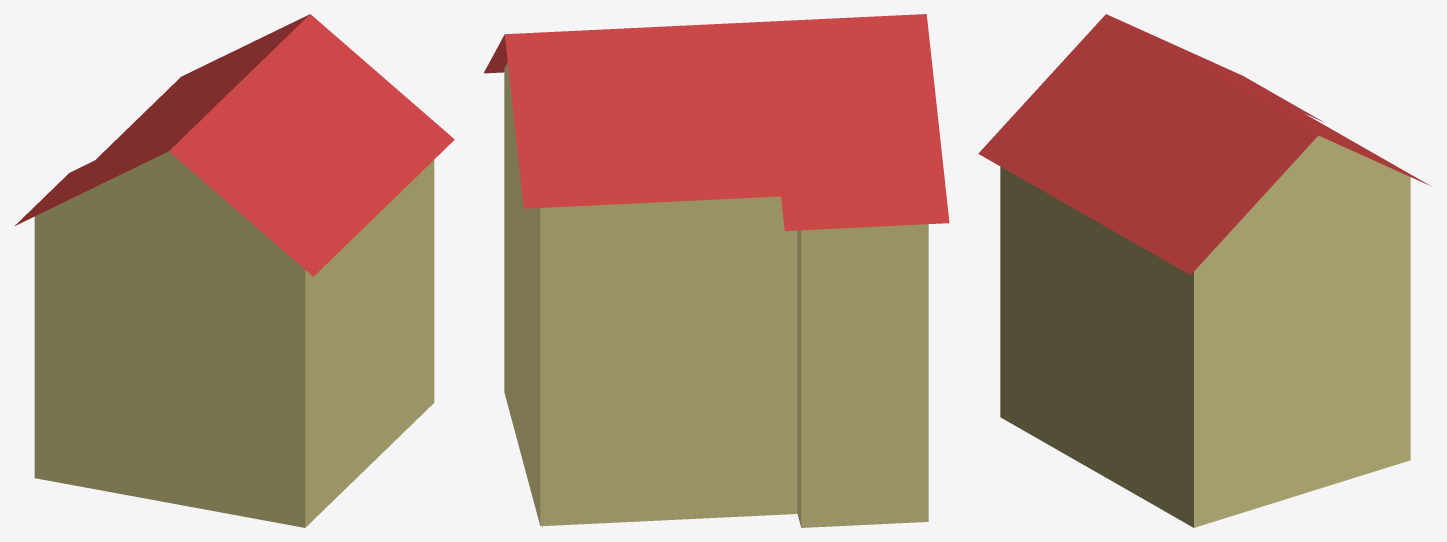
3 renders of one model, left to right at view 1: azimuth 30°, elevation 25°; view 2: azimuth 150°, elevation 25°; view 3: azimuth 270°, elevation 25°, orthographic. The views are drawn at different scales.
Bounding box in the file's own units: 15.28 × 14.38 × 12.63.
